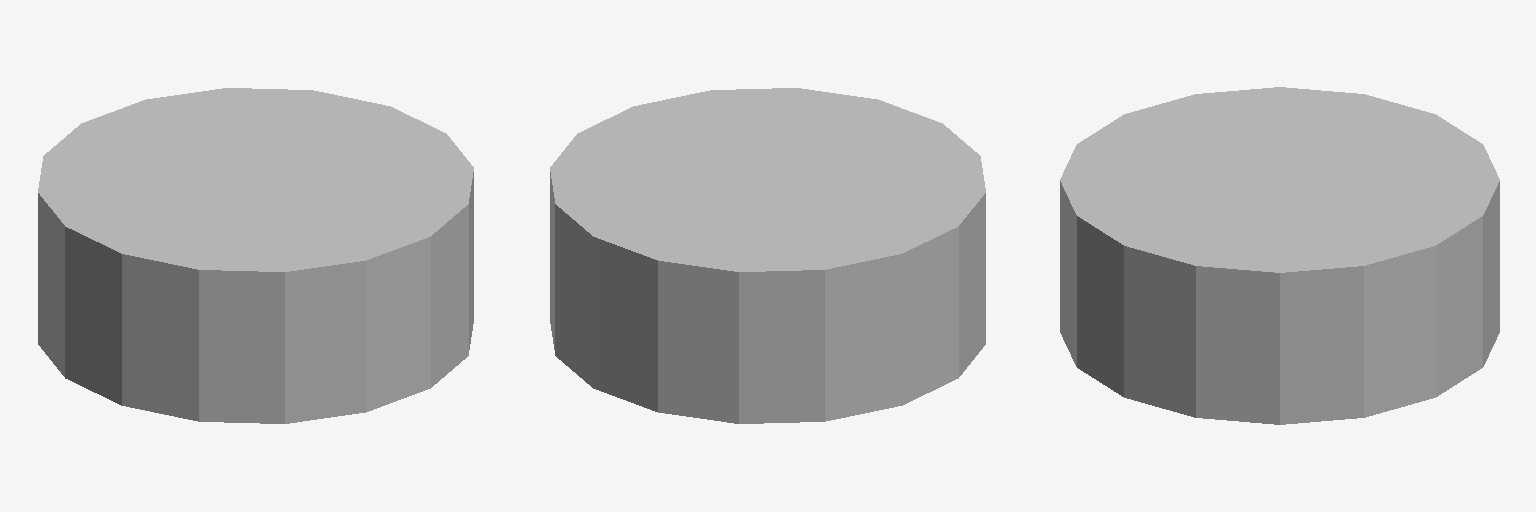
File: conserv.obj
3 renders of one model, left to right at view 1: azimuth 30°, elevation 25°; view 2: azimuth 150°, elevation 25°; view 3: azimuth 270°, elevation 25°, orthographic.
Visible parts, largest first — view 1: conserv1.ogf_00; view 2: conserv1.ogf_00; view 3: conserv1.ogf_00.
Boxes of the visible parts, <box> form: conserv1.ogf_00: <box>38,88,473,423</box>; conserv1.ogf_00: <box>550,88,985,423</box>; conserv1.ogf_00: <box>1060,87,1499,424</box>.
Bounding box in the file's own units: 0.1413 × 0.0538 × 0.1413.